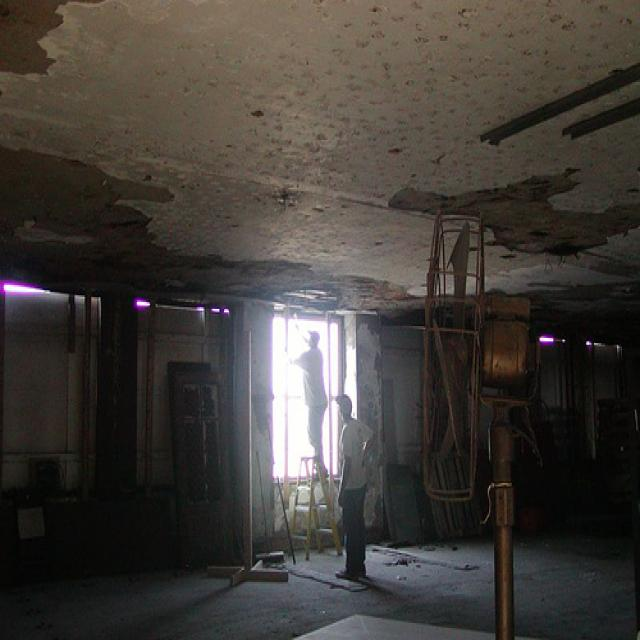person: (276, 305, 330, 482), (335, 394, 377, 581)
